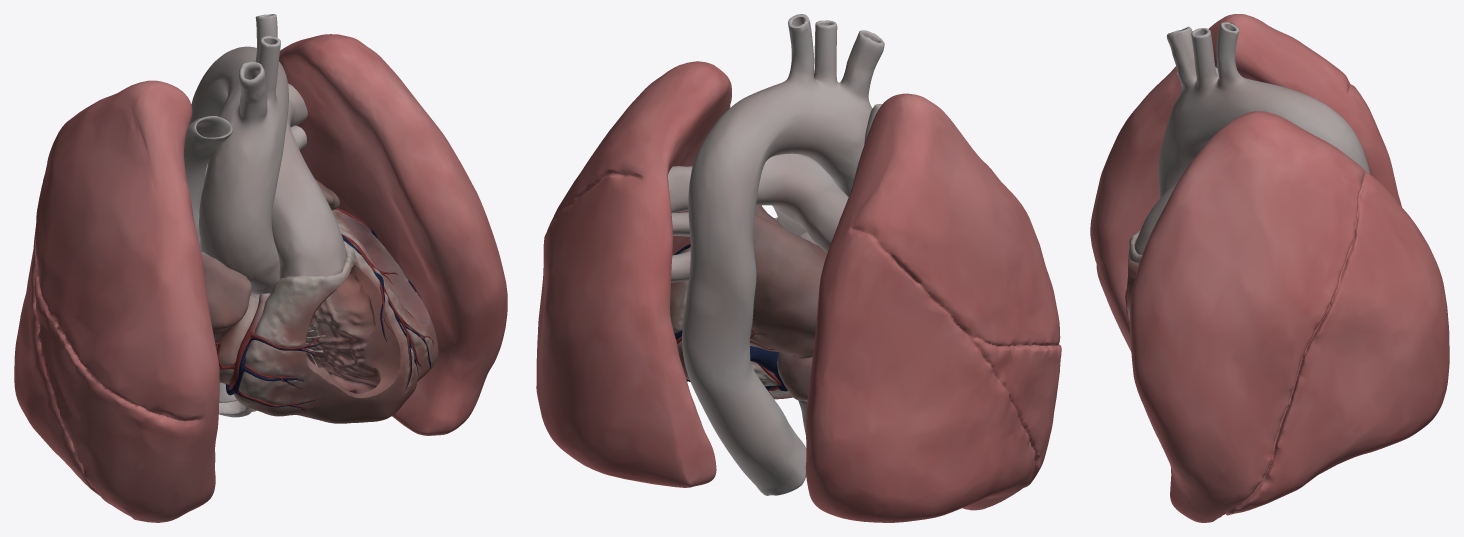
3 views of the same model, side by side, from view 1: azimuth 30°, elevation 25°; view 2: azimuth 150°, elevation 25°; view 3: azimuth 270°, elevation 25° (orthographic). The views are drawn at different scales.
Visible parts, largest first — view 1: linkerlong3, normaal6, normaal5, normaal25; view 2: linkerlong3, normaal5, normaal6, normaal25; view 3: linkerlong3, normaal5, normaal6.
Boxes of the visible parts, <box> form: linkerlong3: <box>14,34,507,522</box>; normaal6: <box>201,125,438,423</box>; normaal5: <box>184,14,346,417</box>; normaal25: <box>215,207,433,411</box>; linkerlong3: <box>536,61,1061,522</box>; normaal5: <box>668,14,884,495</box>; normaal6: <box>670,205,827,400</box>; normaal25: <box>674,243,787,394</box>; linkerlong3: <box>1090,14,1449,522</box>; normaal5: <box>1134,22,1369,254</box>; normaal6: <box>1127,230,1157,436</box>.
Bounding box in the file's own units: 1.41 × 1.39 × 1.06.
